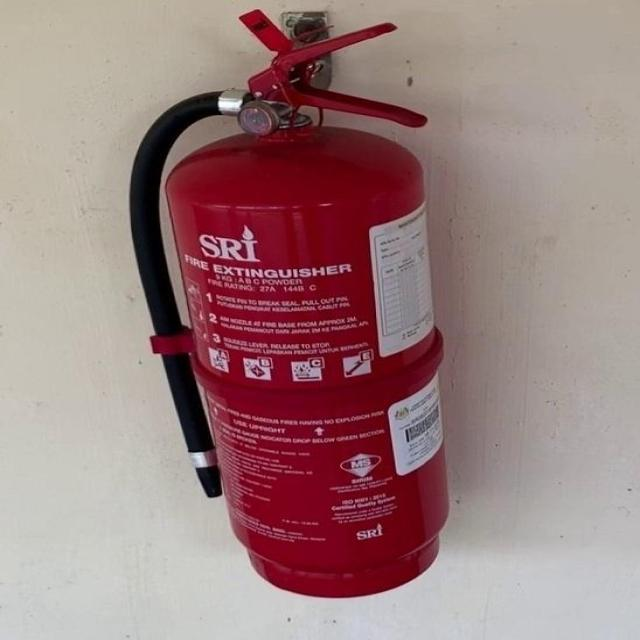fire_extinguisher: (121, 7, 456, 600)
